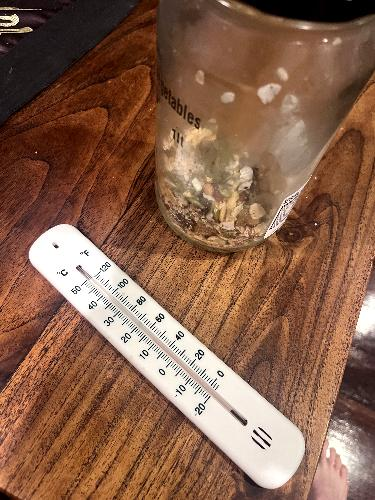thermo: (26, 209, 316, 490)
